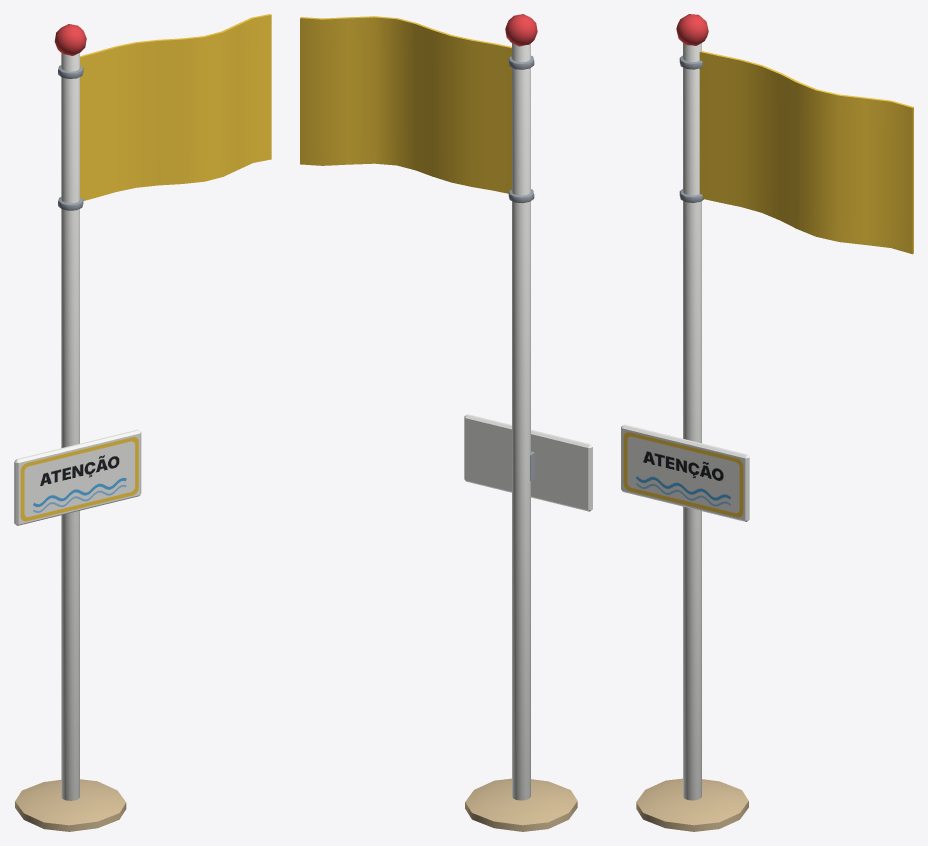
Rendered from bandeira_aviso_amarela.glb.
3 renders of one model, left to right at view 1: azimuth 30°, elevation 25°; view 2: azimuth 150°, elevation 25°; view 3: azimuth 330°, elevation 25°, orthographic.
Parts seen in each view (by area): view 1: bandeira, bandeira_aviso_amarela; view 2: bandeira, bandeira_aviso_amarela; view 3: bandeira, bandeira_aviso_amarela.
Boxes of the visible parts, box(x1,y1,x2,y2) form: bandeira: box(58, 14, 271, 210); bandeira_aviso_amarela: box(14, 24, 141, 831); bandeira: box(300, 16, 534, 203); bandeira_aviso_amarela: box(464, 14, 592, 831); bandeira: box(679, 51, 913, 254); bandeira_aviso_amarela: box(621, 14, 749, 831).
Bounding box in the file's own units: 1.34 × 3.71 × 0.4611.
2 materials, 2 textured.
